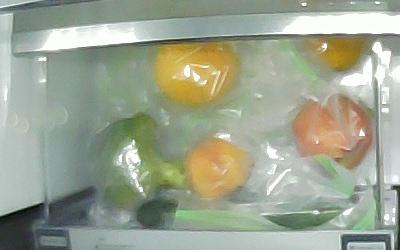apple_vinyl: (292, 93, 372, 171)
broccoli_vinyl: (95, 112, 186, 206)
cucumber_vinyl: (137, 201, 361, 230)
grapefruit_vinyl: (153, 40, 240, 106)
peach_vinyl: (185, 136, 254, 200)
persimmon_vinyl: (306, 36, 367, 71)
